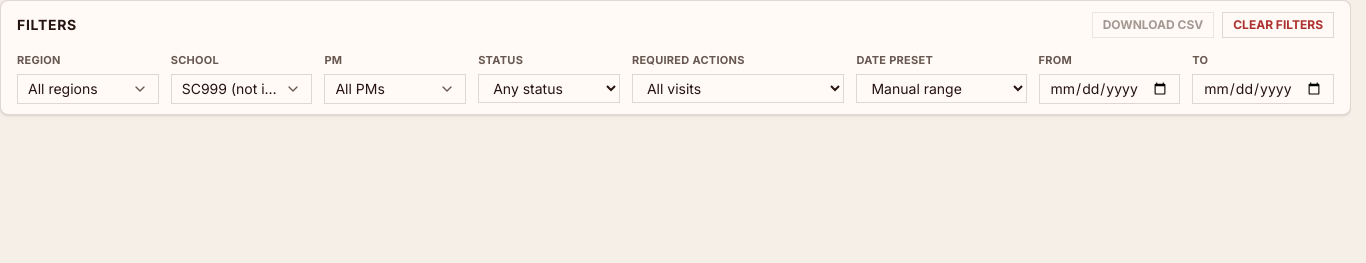
Test case: VisitSummaryFilterBar › shows selected school values missing from options with a not-in-results indicator
Click the button "SC999 (not in results)" at (242, 89), box left=171, top=74, right=312, bottom=104
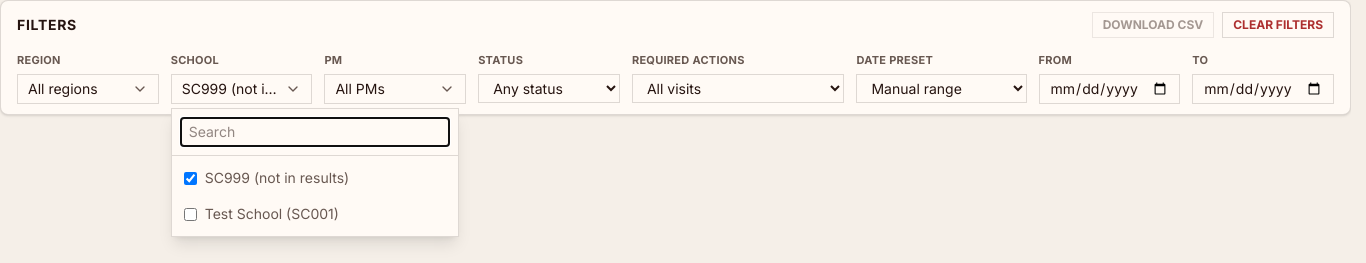
Check: the checkbox labelled "SC999 (not in results)" is checked, box left=184, top=172, right=197, bottom=184
Check: the checkbox labelled "Test School (SC001)" is not checked, box left=184, top=208, right=197, bottom=220
